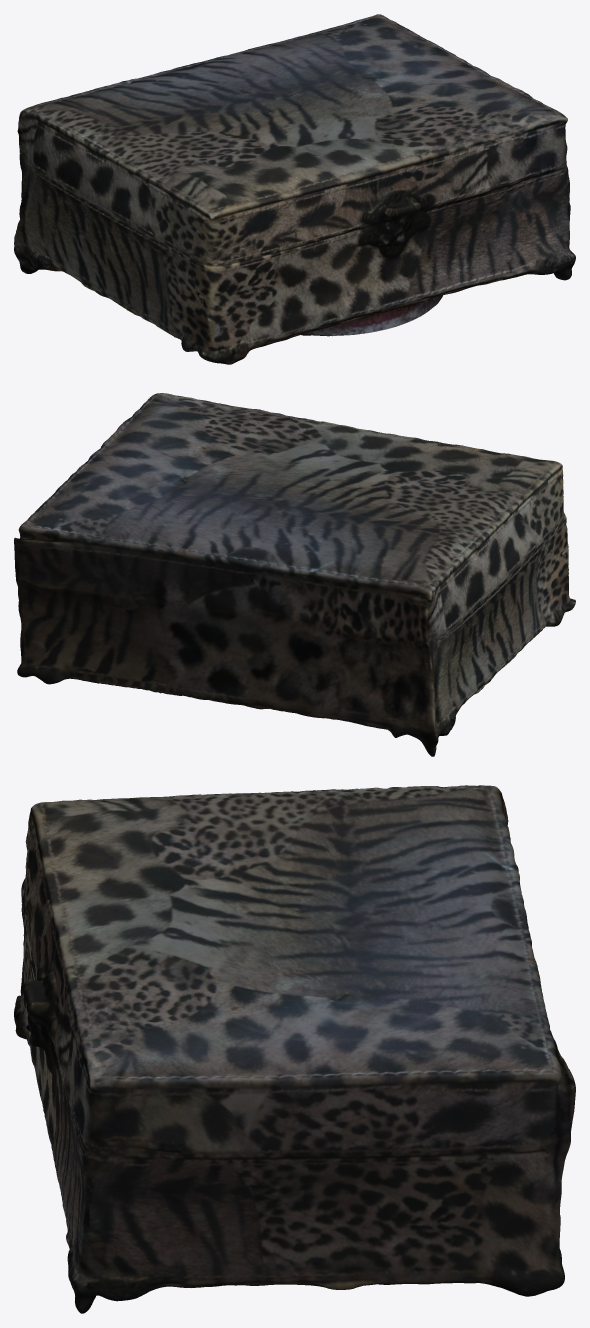
File: 3DModel.fbx
3 views of the same model, one above another, from view 1: azimuth 30°, elevation 25°; view 2: azimuth 150°, elevation 25°; view 3: azimuth 270°, elevation 25° (orthographic). The views are drawn at different scales.
Parts seen in each view (by area): view 1: 3DModel; view 2: 3DModel; view 3: 3DModel.
Part boxes in pixels (bbox=[...]): 3DModel: bbox=[14, 14, 575, 364]; 3DModel: bbox=[14, 393, 575, 756]; 3DModel: bbox=[14, 785, 575, 1313].
Bounding box in the file's own units: 41.09 × 17.18 × 32.76.
1 material, 1 textured.
